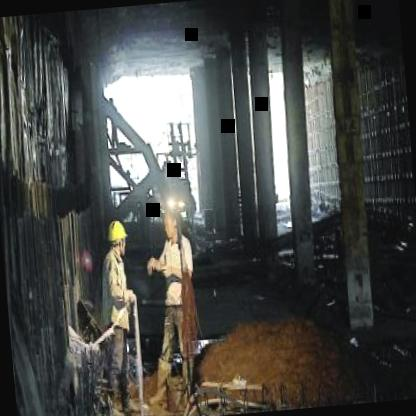head: (160, 206, 180, 244)
helmet: (105, 219, 132, 266)
